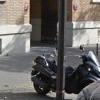Motorcycle: (23, 50, 100, 100)
